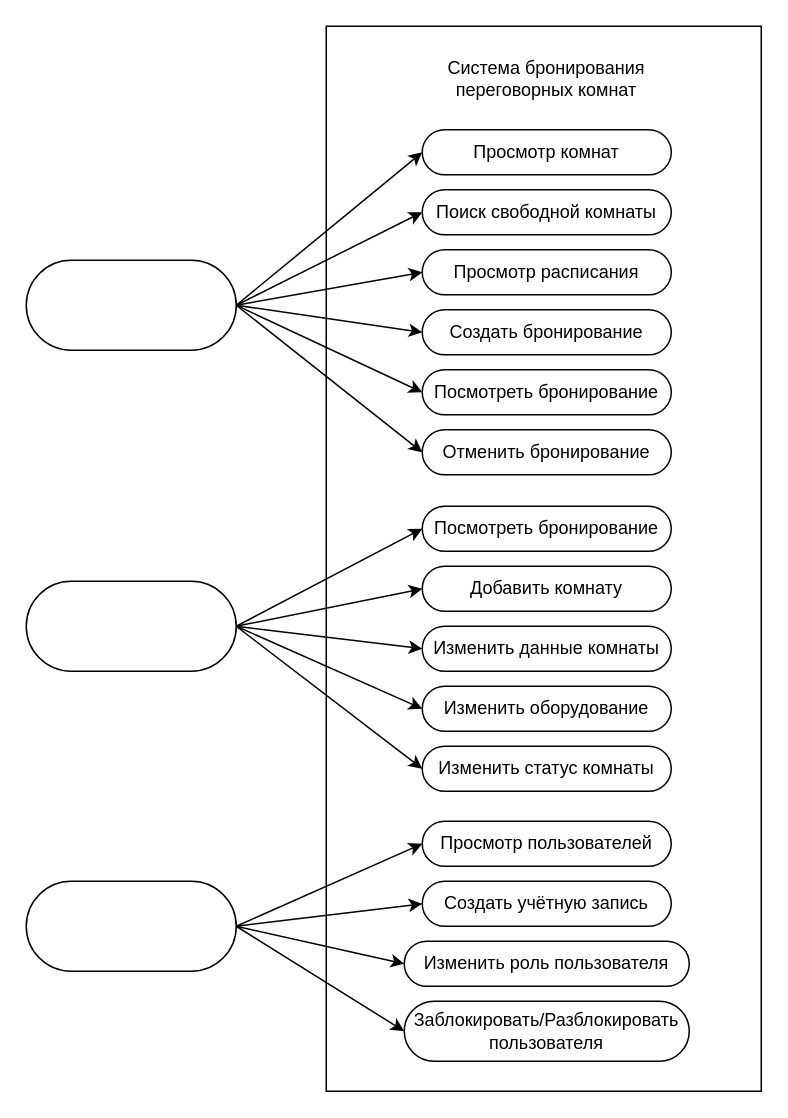
The diagram is 788 pixels wide and 1118 high, and some of its shapes have lost their labels. The shapes that lost their labels are listed below. From the top down, each one's centre as x and y in pixels, then its label:
At point 130,304: "Сотрудник".
At point 130,625: "Администратор переговорных комнат".
At point 130,925: "Системный администратор".
